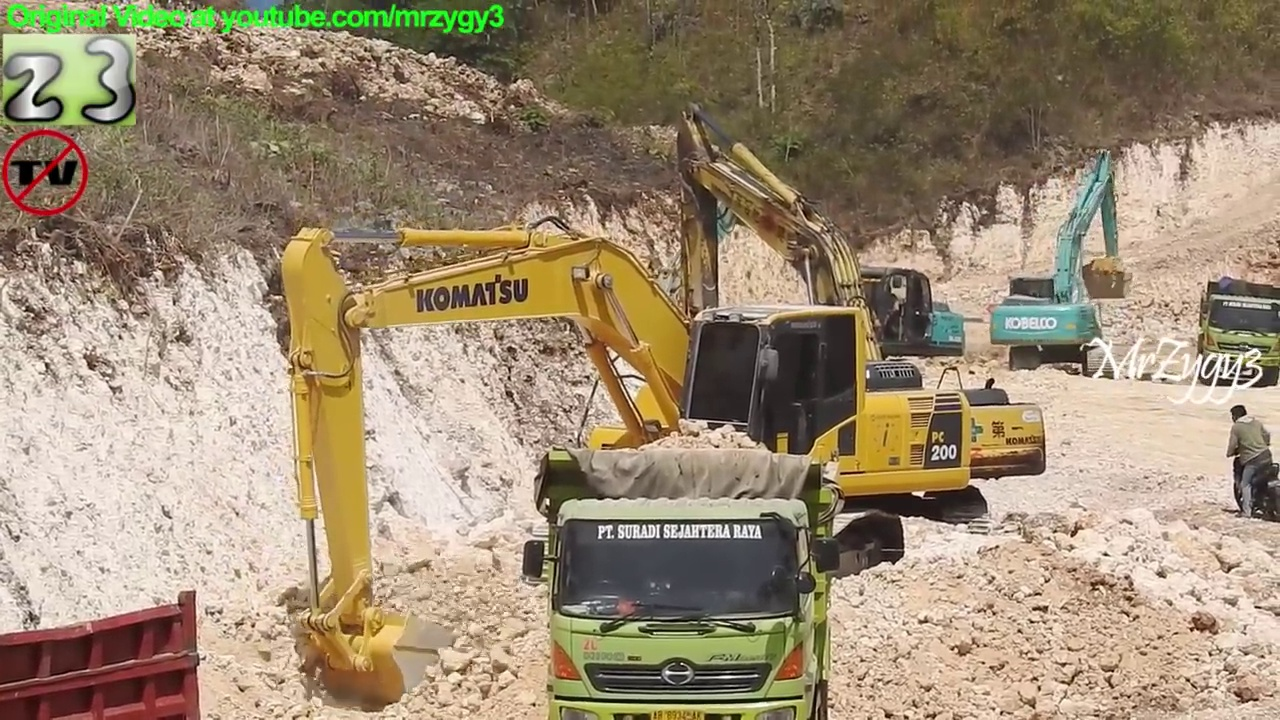excavator: (268, 212, 982, 717), (651, 93, 1055, 547), (660, 182, 971, 388), (985, 141, 1138, 386)
truck: (516, 441, 848, 720), (1, 585, 205, 720), (1193, 272, 1280, 391)
